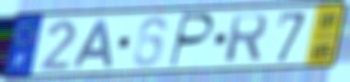2: (37, 18, 78, 72)
6: (131, 16, 169, 69)
7: (274, 11, 309, 64)
A: (72, 18, 115, 70)
P: (166, 11, 216, 70)
R: (223, 12, 270, 65)
